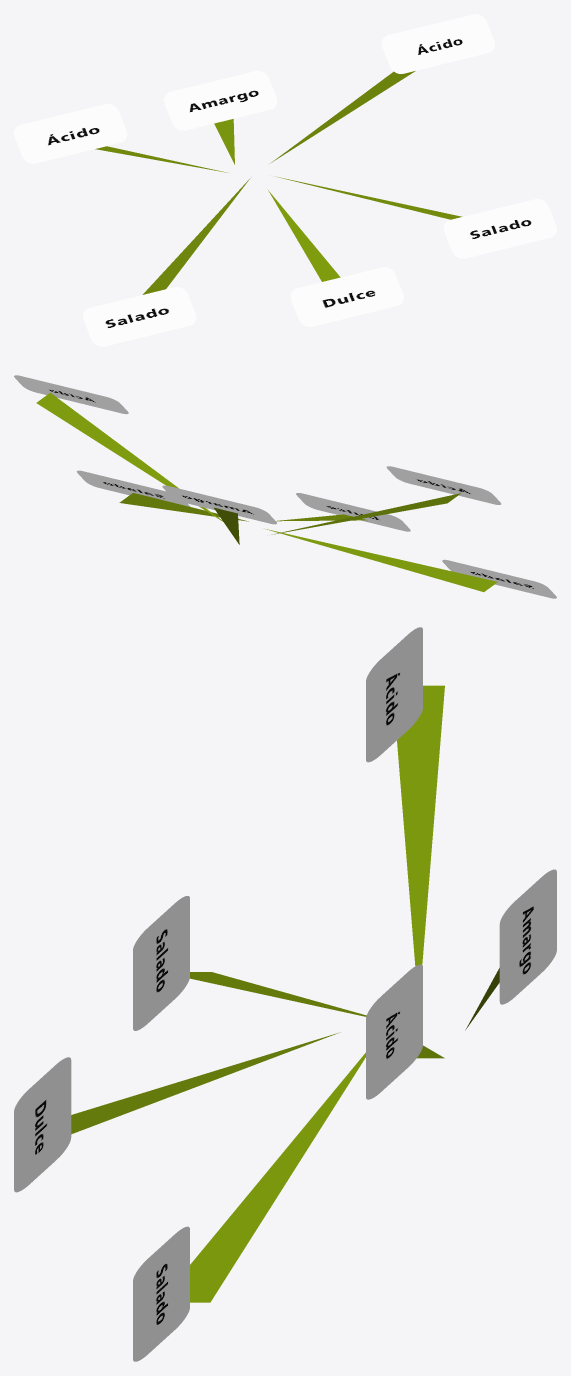
File: partes.FBX
3 views of the same model, one above another, from view 1: azimuth 30°, elevation 25°; view 2: azimuth 150°, elevation 25°; view 3: azimuth 270°, elevation 25° (orthographic). The views are drawn at different scales.
Parts seen in each view (by area): view 1: Rectangle011; view 2: Rectangle011; view 3: Rectangle011.
Boxes of the visible parts, x1,y1,x2,y2 form: Rectangle011: (14, 14, 556, 346); Rectangle011: (14, 375, 556, 598); Rectangle011: (14, 627, 556, 1361).
Size of the model in its own units: 73.63 by 39 by 24.88.
2 materials, 1 textured.
